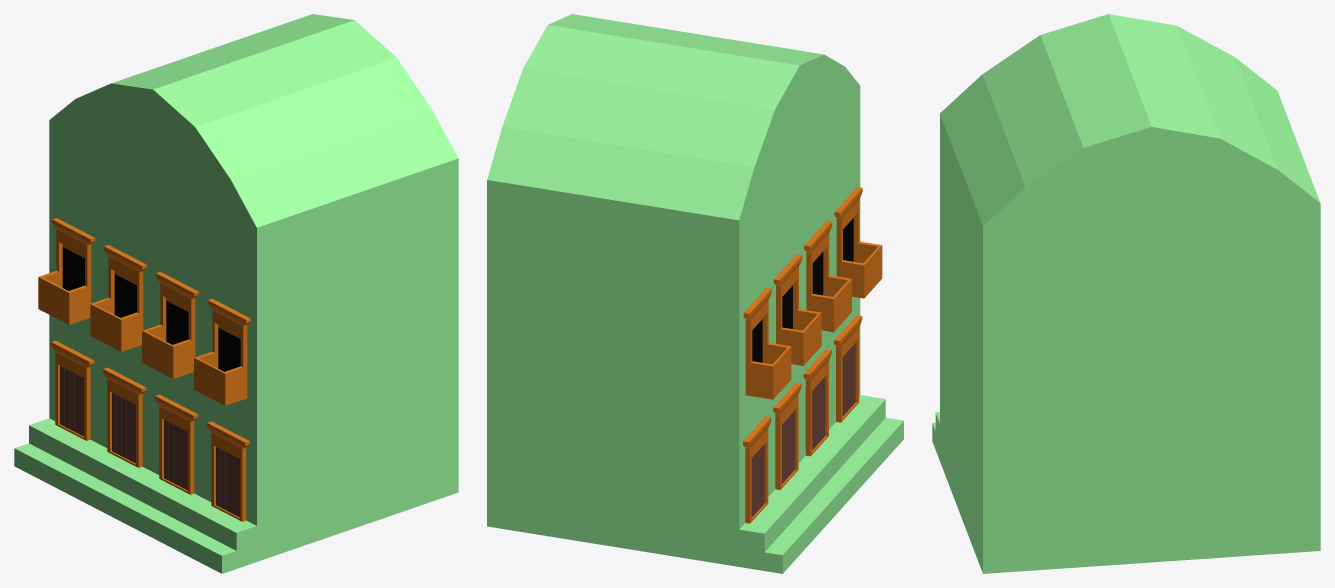
The model's file is Hotel2.fbx.
3 renders of one model, left to right at view 1: azimuth 30°, elevation 25°; view 2: azimuth 150°, elevation 25°; view 3: azimuth 270°, elevation 25°, orthographic. The views are drawn at different scales.
Parts seen in each view (by area): view 1: Cube.001; view 2: Cube.001; view 3: Cube.001.
Part boxes in pixels (left/top/right/bottom): Cube.001: left=14, top=14, right=458, bottom=573; Cube.001: left=487, top=14, right=903, bottom=573; Cube.001: left=932, top=14, right=1320, bottom=573.
Bounding box in the file's own units: 1876 × 2451 × 1980.
